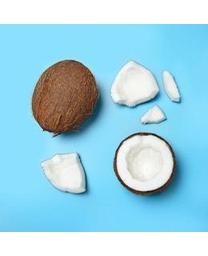coconut: (31, 55, 101, 135), (112, 131, 175, 194)
